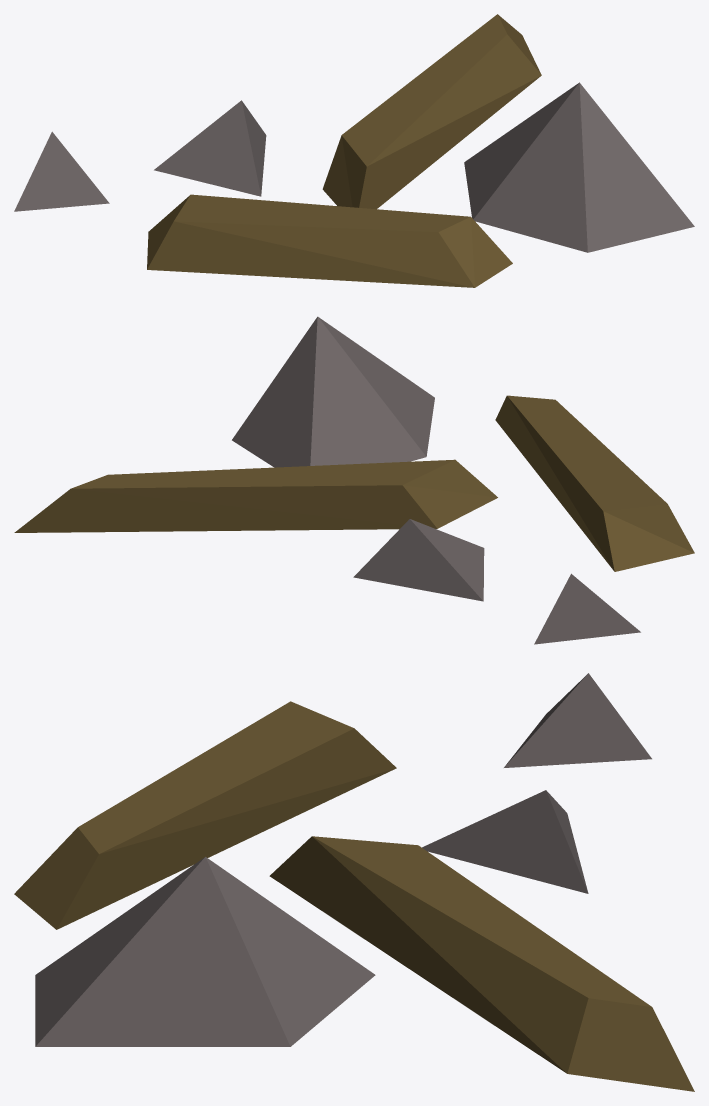
3 renders of one model, top to bottom at view 1: azimuth 30°, elevation 25°; view 2: azimuth 150°, elevation 25°; view 3: azimuth 270°, elevation 25°, orthographic. The views are drawn at different scales.
Size of the model in its own units: 42 by 8 by 32.
1 material, 1 textured.
